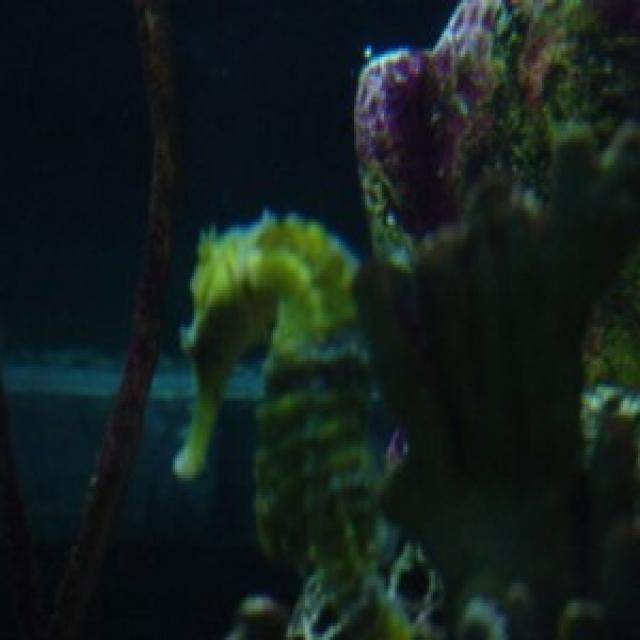Seahorse: (167, 213, 424, 636)
